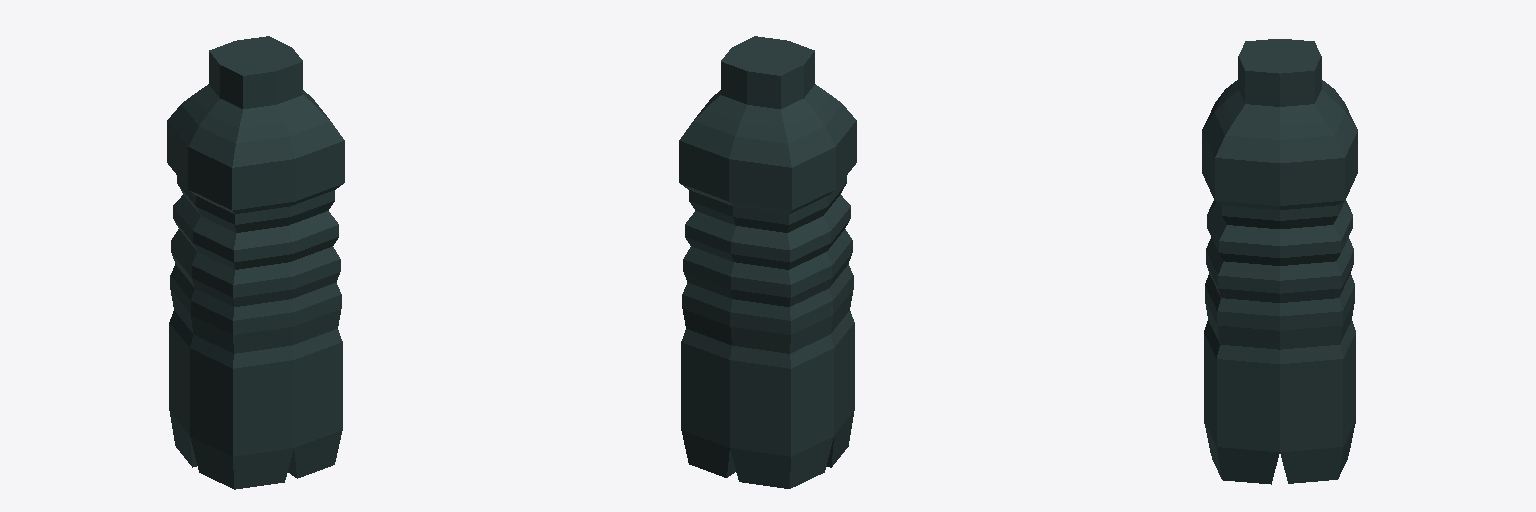
File: Texture_bottle.obj
3 renders of one model, left to right at view 1: azimuth 30°, elevation 25°; view 2: azimuth 150°, elevation 25°; view 3: azimuth 270°, elevation 25°, orthographic.
Parts seen in each view (by area): view 1: pCube1; view 2: pCube1; view 3: pCube1.
Boxes of the visible parts, box(x1,y1,x2,y2) form: pCube1: box(167, 36, 344, 489); pCube1: box(679, 36, 856, 488); pCube1: box(1202, 39, 1357, 484).
Bounding box in the file's own units: 3.92 × 11.08 × 3.92.